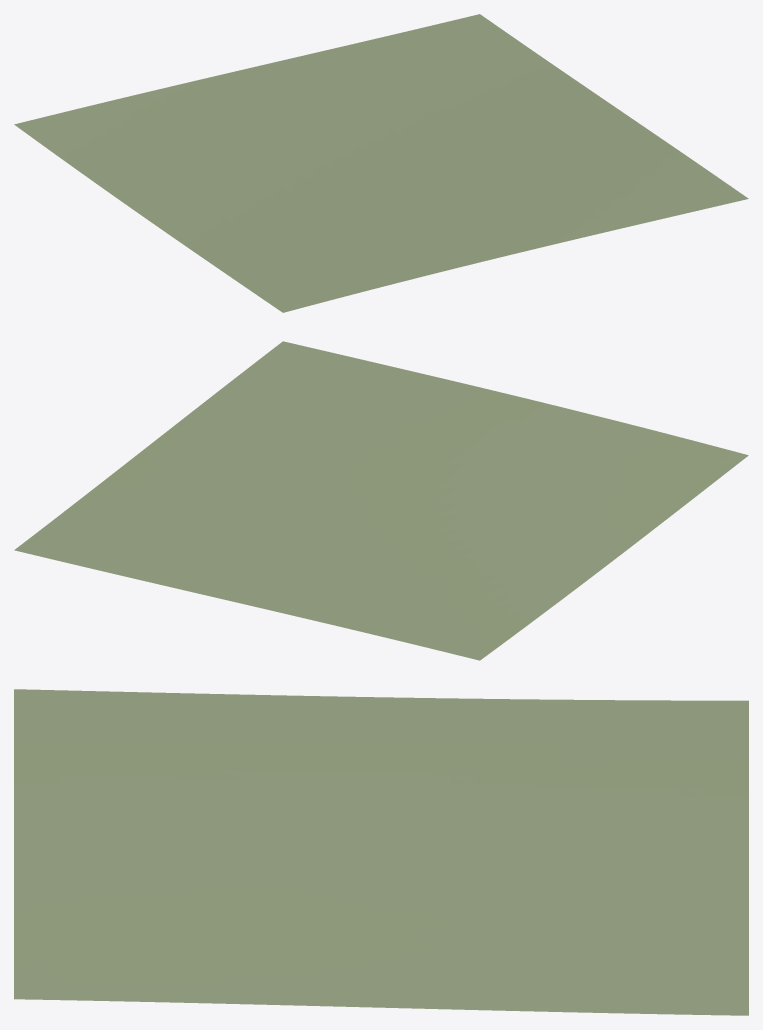
File: expanse-8-17.glb
The picture shows the model from 3 angles, top to bottom: view 1: azimuth 30°, elevation 25°; view 2: azimuth 150°, elevation 25°; view 3: azimuth 270°, elevation 25°; orthographic projection. The views are drawn at different scales.
Visible parts, largest first — view 1: expanse-8-17; view 2: expanse-8-17; view 3: expanse-8-17.
Part boxes in pixels (bbox=[...]): expanse-8-17: bbox=[14, 14, 748, 312]; expanse-8-17: bbox=[14, 341, 748, 660]; expanse-8-17: bbox=[14, 689, 748, 1015].
Bounding box in the file's own units: 256 × 7.45 × 256.
